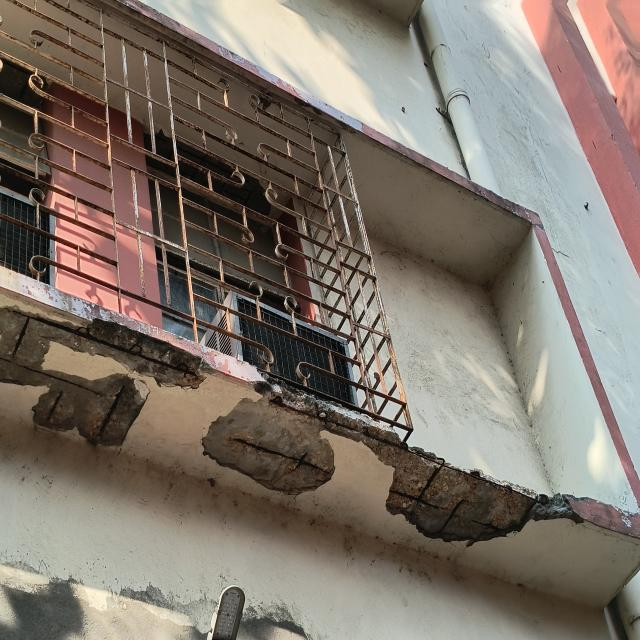crack: (548, 240, 576, 263), (42, 608, 47, 615)
spalling: (202, 385, 579, 546), (0, 290, 205, 446)
stain_mould: (113, 582, 237, 640), (0, 579, 87, 640), (229, 594, 315, 640)
